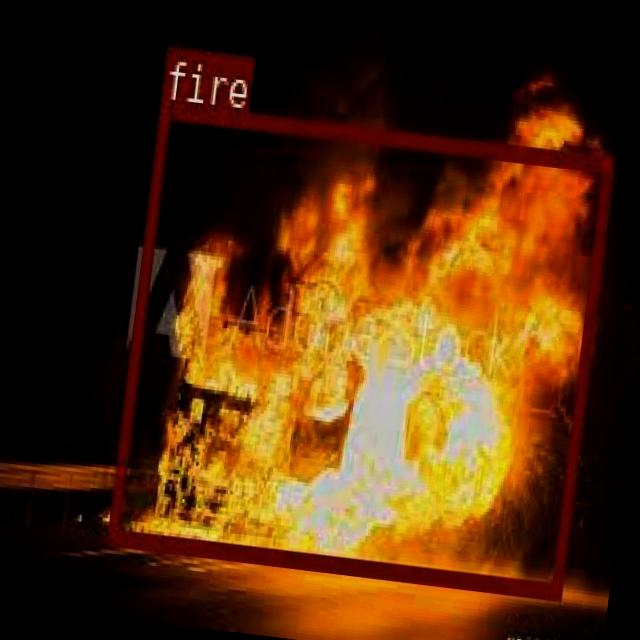fire: (104, 100, 612, 594)
